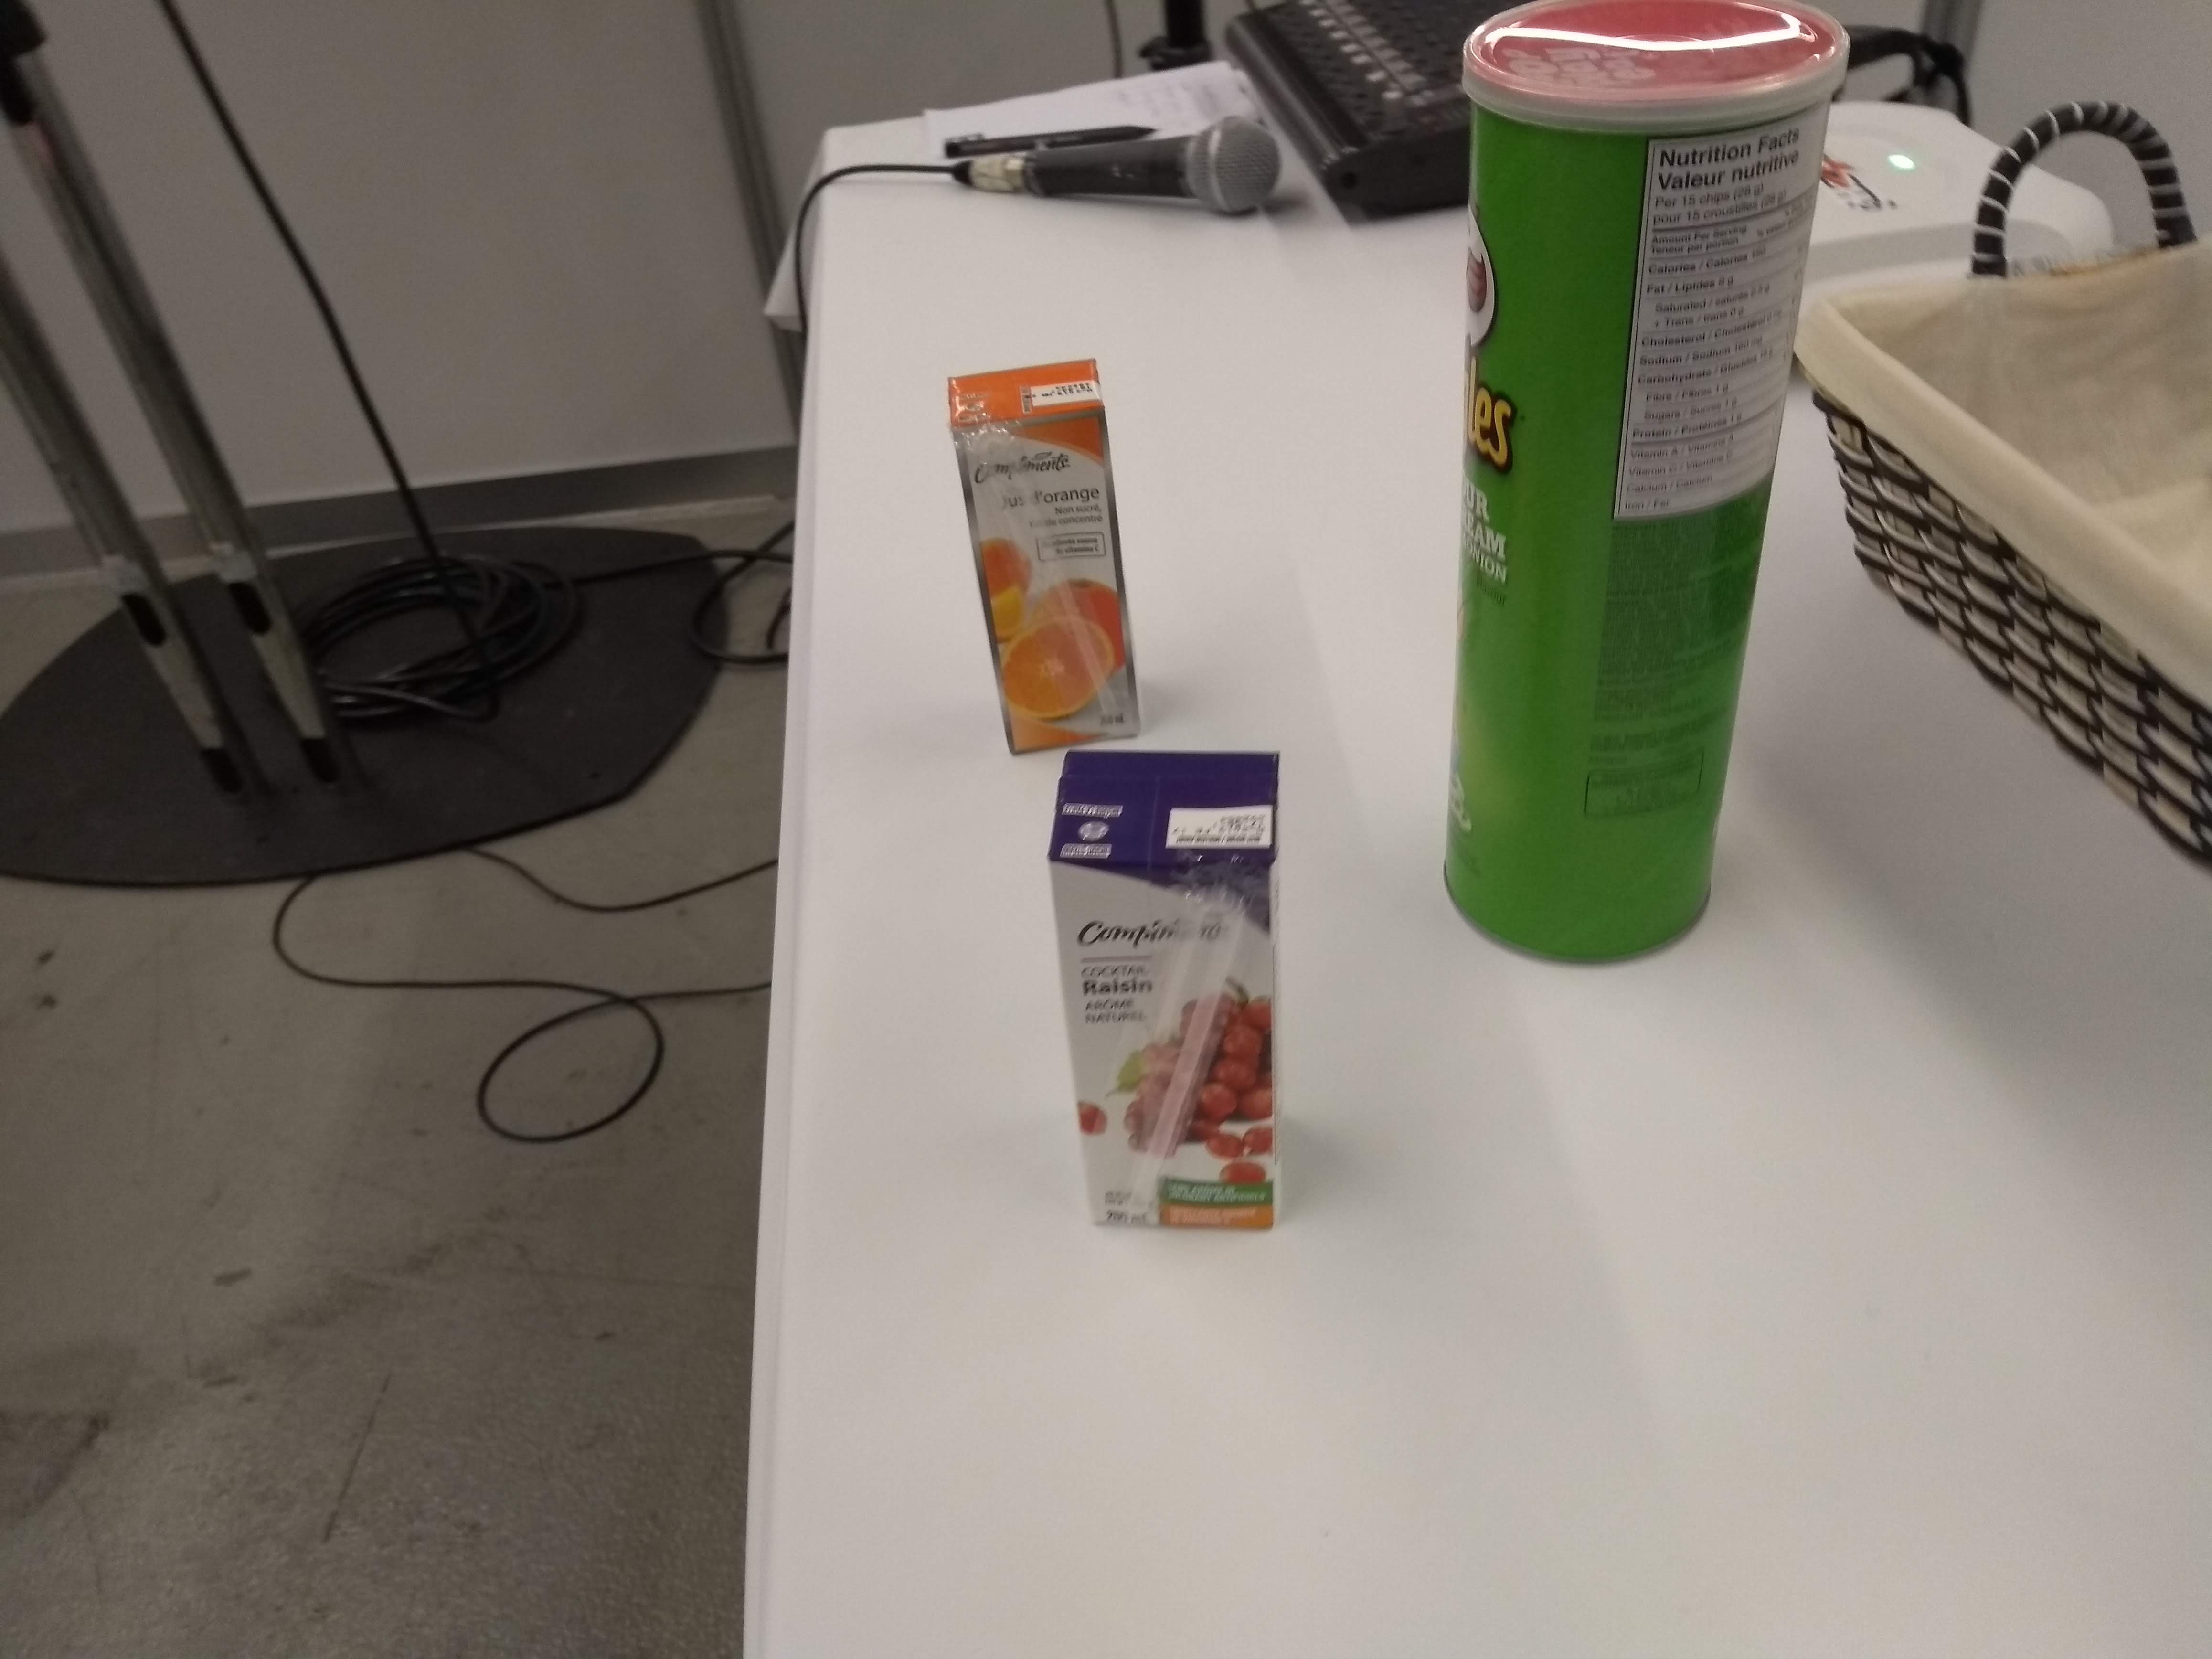grape_juice: (1036, 732, 1305, 1249)
orange_juice: (935, 335, 1155, 767)
pringles: (1425, 0, 1853, 974)
